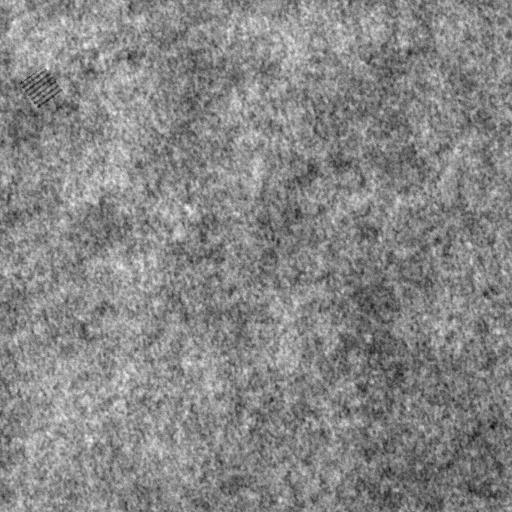DefectTypeB: (20, 66, 63, 109)
